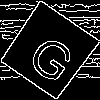G: (24, 25, 84, 86)
